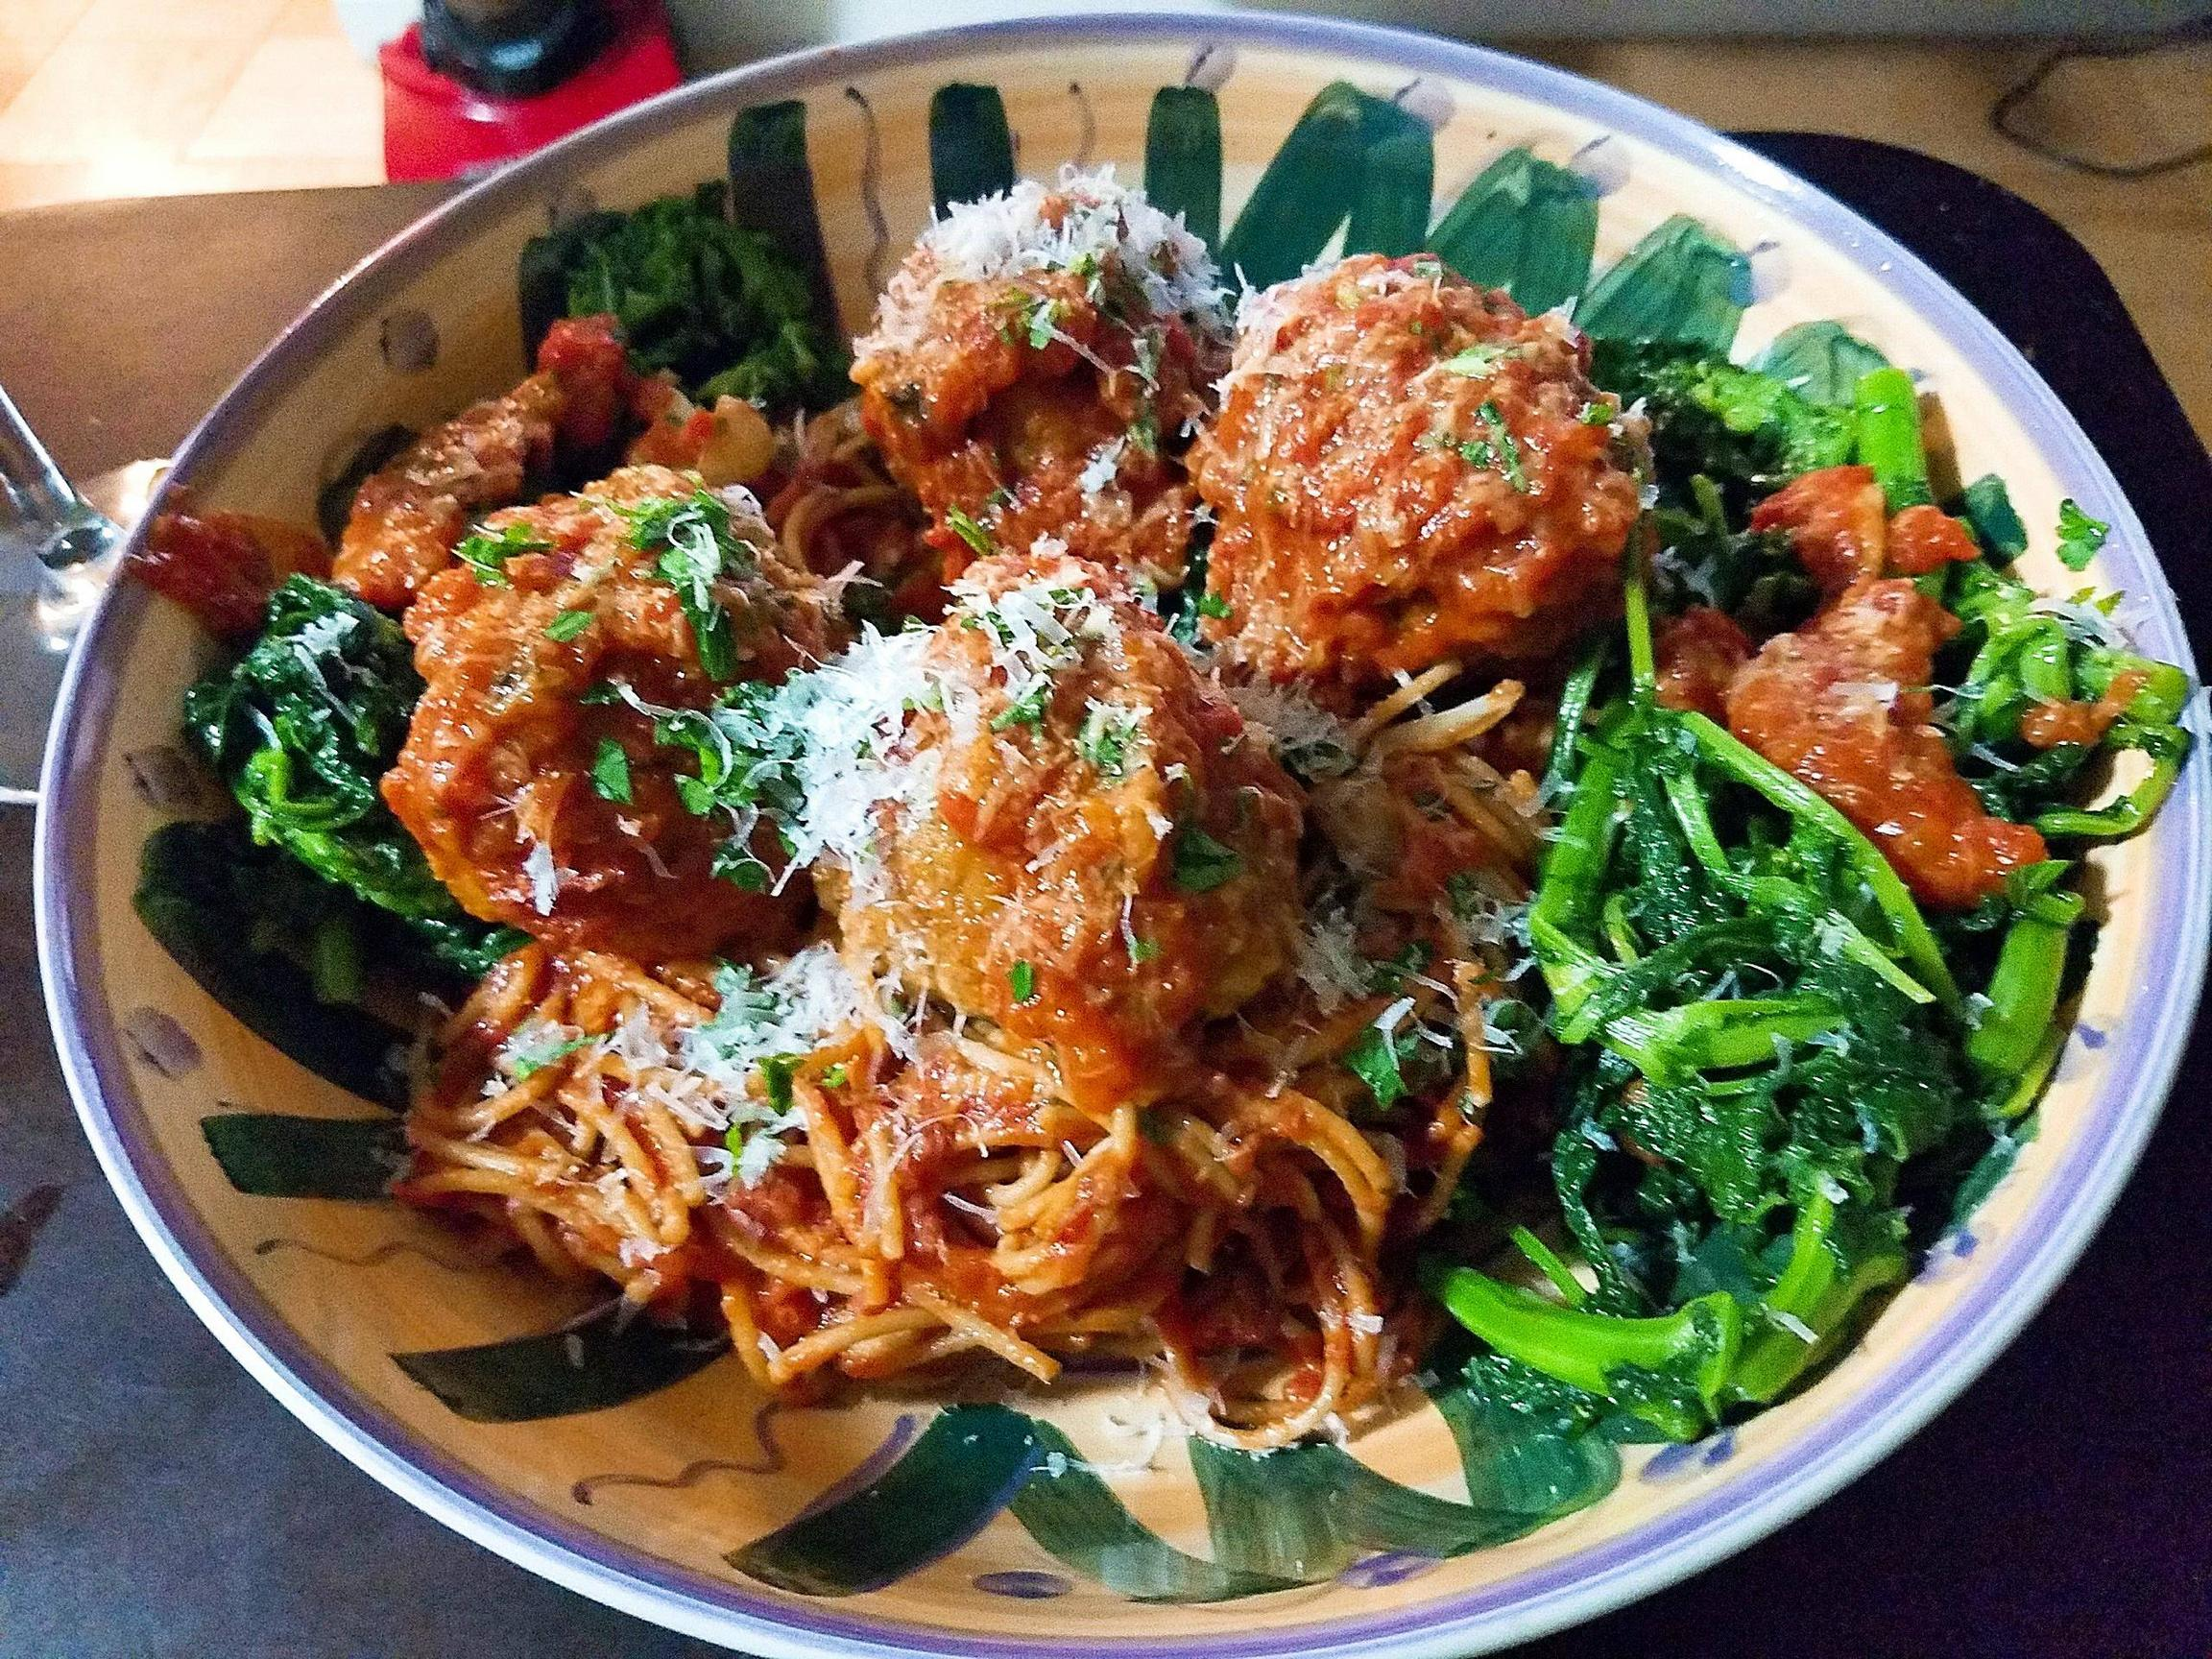chopped lettuce: (1529, 737, 1919, 1406)
meatballs: (817, 587, 1277, 1037), (401, 491, 805, 913), (1217, 277, 1590, 608), (876, 200, 1214, 532)
plain spaghetti: (495, 1012, 1409, 1401)
